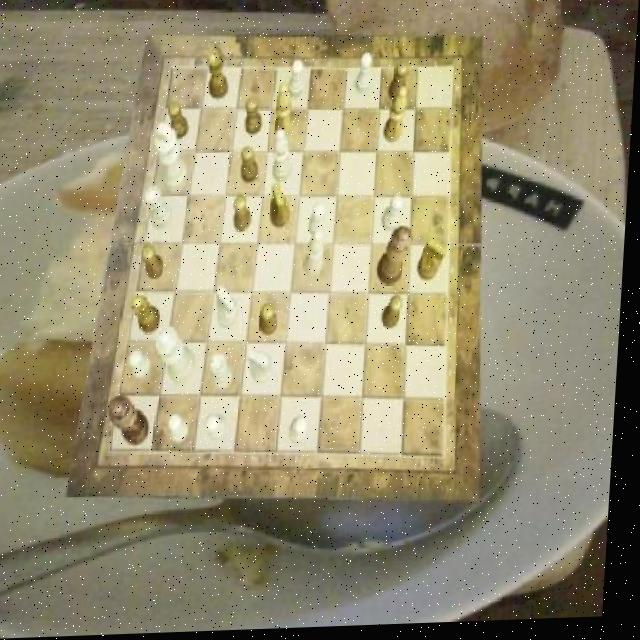bishop: (384, 90, 409, 148), (276, 83, 297, 142)
black-bishop: (110, 396, 155, 449)
black-king: (420, 241, 451, 285), (272, 183, 294, 230)
black-knight: (166, 102, 190, 141), (389, 65, 410, 106), (144, 246, 168, 281), (384, 298, 406, 333), (246, 98, 265, 137), (236, 197, 255, 233), (243, 148, 262, 184), (263, 305, 282, 338)
black-pawn: (378, 229, 415, 289)
black-queen: (133, 295, 166, 336), (206, 53, 231, 102)
black-rook: (273, 130, 295, 184), (306, 233, 329, 281)
white-bishop: (153, 122, 193, 196)
white-king: (218, 286, 243, 329), (251, 350, 277, 387)
white-knight: (384, 197, 406, 234), (356, 55, 374, 97), (132, 350, 156, 380), (289, 62, 306, 101), (172, 415, 194, 445), (210, 416, 234, 442), (310, 206, 328, 240), (293, 420, 312, 448)
white-pawn: (158, 326, 202, 385)
white-queen: (146, 187, 176, 231), (214, 354, 239, 392)
